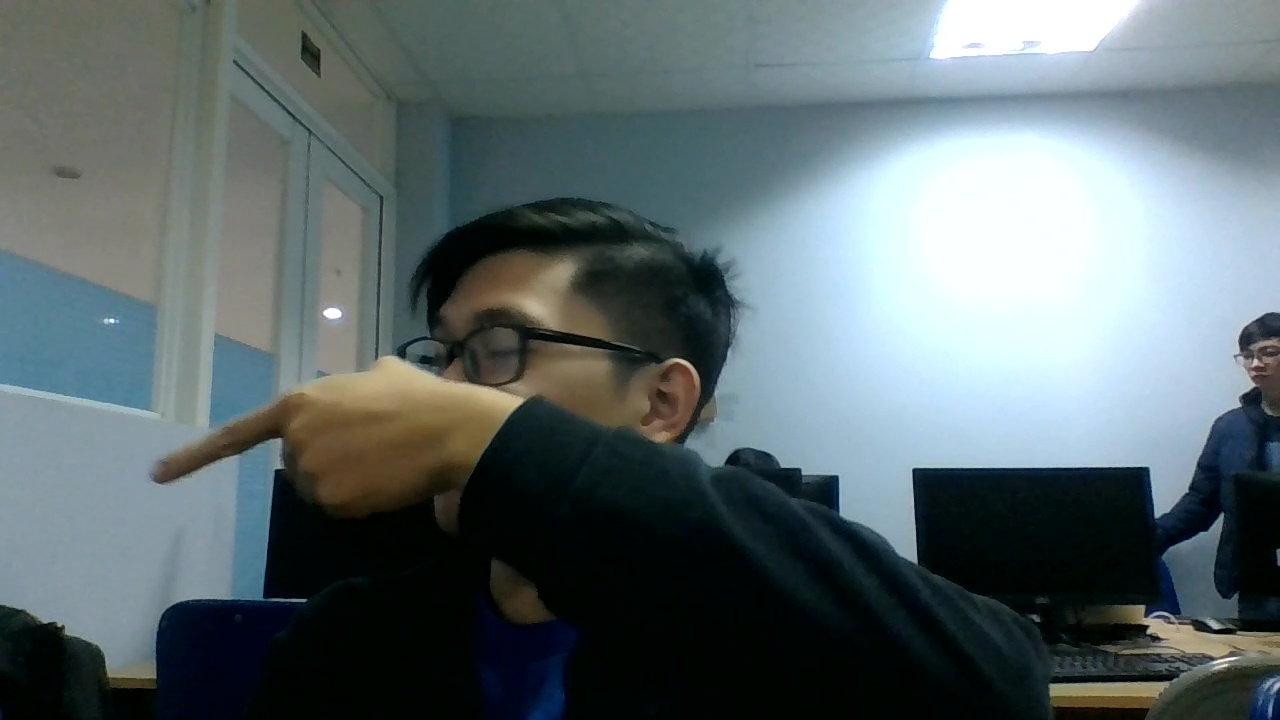right: (148, 351, 451, 531)
